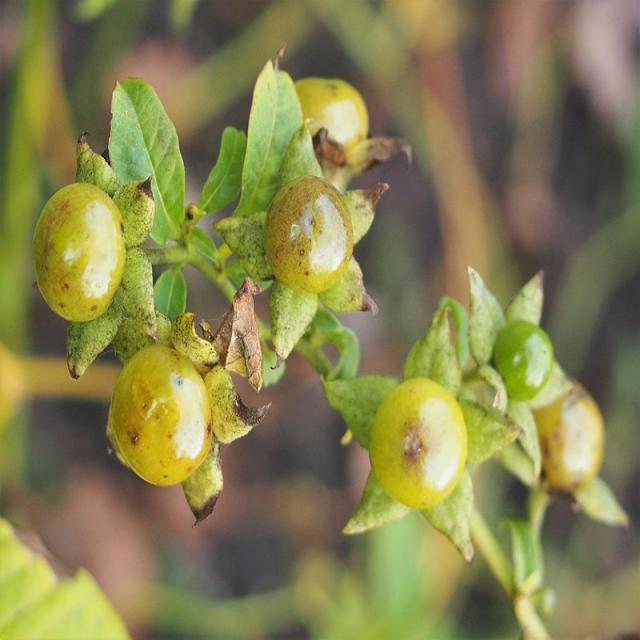Belladonna: (53, 76, 391, 448), (310, 215, 605, 572)
